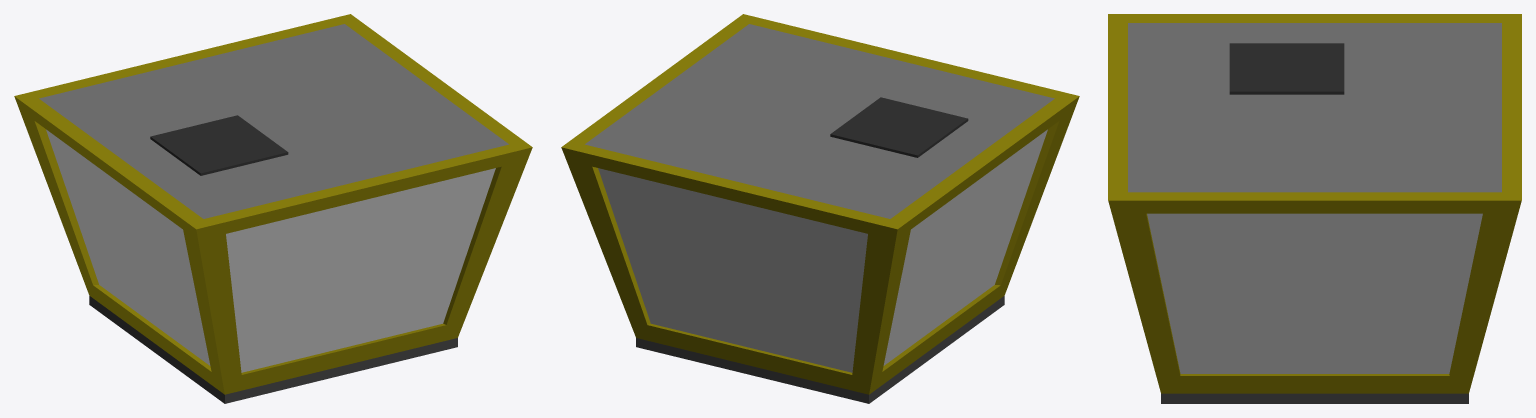
3 renders of one model, left to right at view 1: azimuth 30°, elevation 25°; view 2: azimuth 150°, elevation 25°; view 3: azimuth 270°, elevation 25°, orthographic. The views are drawn at different scales.
Visible parts, largest first — view 1: Cube, Hatch; view 2: Cube, Hatch; view 3: Cube, Hatch.
Boxes of the visible parts, x1,y1,x2,y2 form: Cube: (14,14,532,403); Hatch: (150,115,288,175); Cube: (561,14,1079,403); Hatch: (830,97,968,157); Cube: (1108,14,1521,403); Hatch: (1229,43,1344,94).
Bounding box in the file's own units: 596 × 350 × 558.
